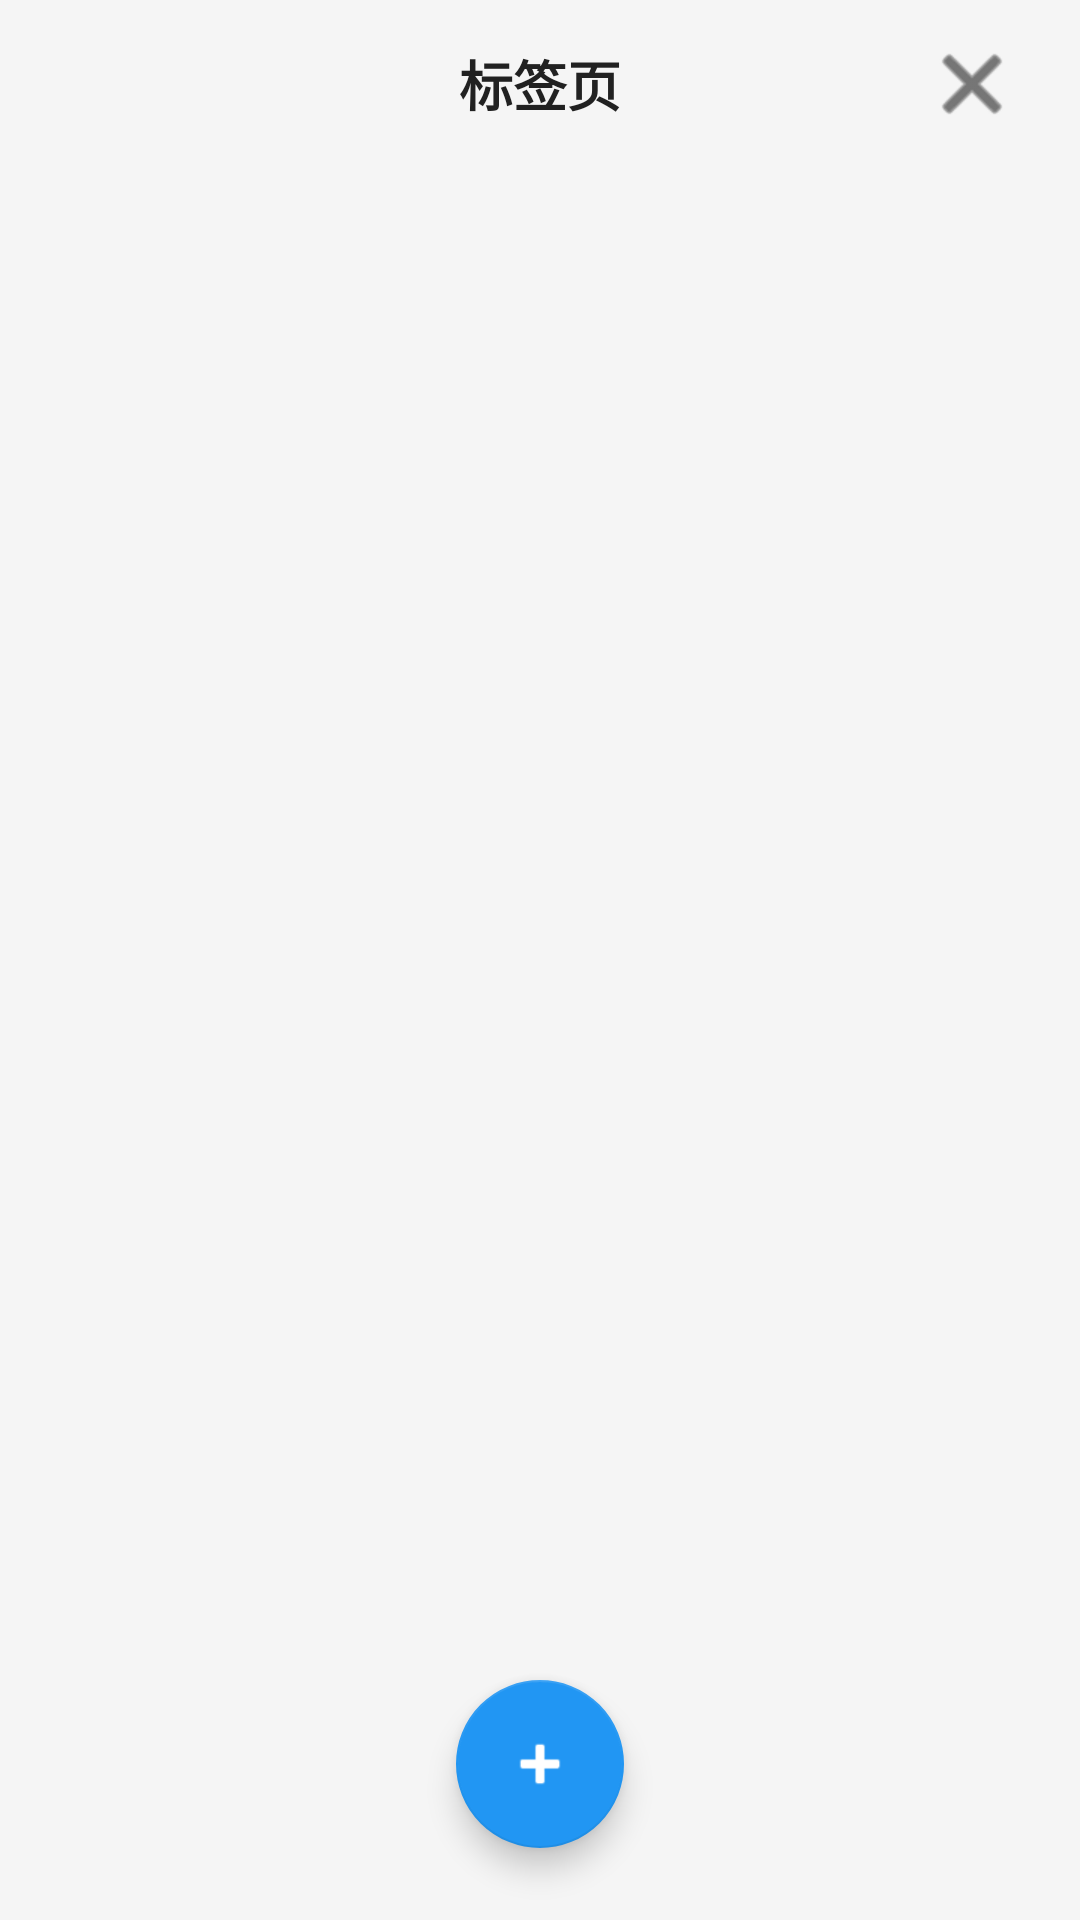

Where icons sit on this 1080px x 1920px app screen, as (x1, y1, x2, y2):
关闭: (942, 54, 1002, 114)
新建标签页: (456, 1680, 624, 1848)
